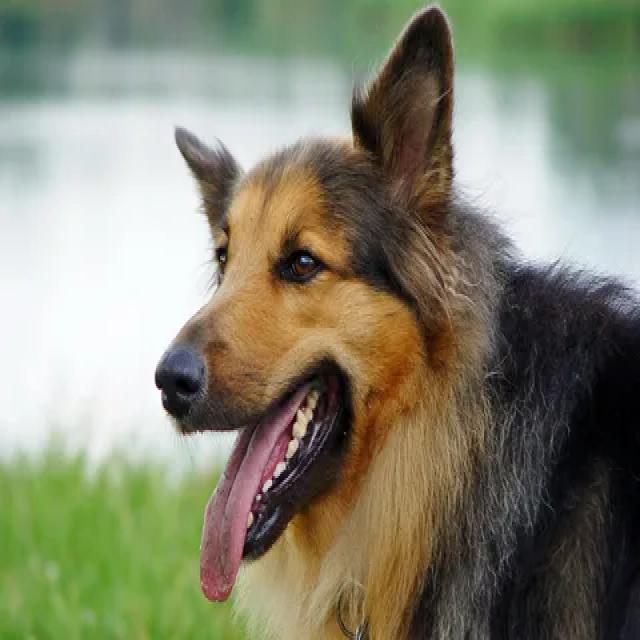Dog: (153, 14, 506, 606)
